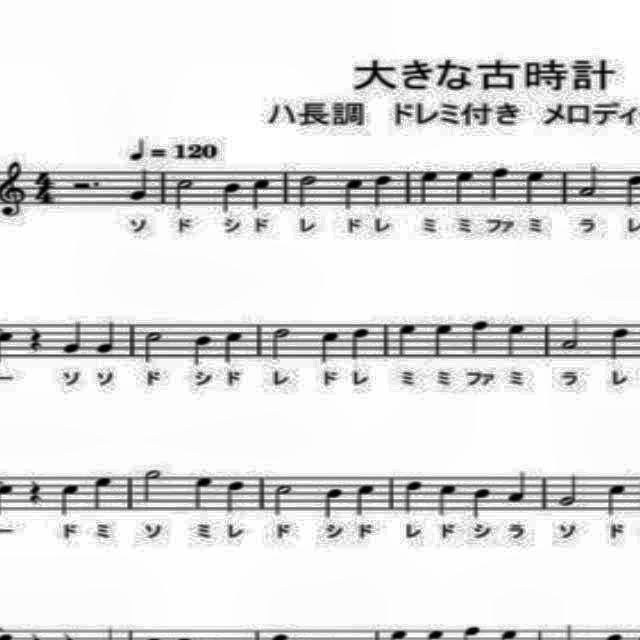Half-note: (137, 462, 167, 506), (288, 170, 320, 210), (554, 472, 586, 512), (271, 478, 301, 518), (574, 160, 604, 200), (168, 175, 196, 213), (140, 324, 164, 366), (558, 318, 586, 354), (266, 322, 290, 362)
Half-rest: (72, 177, 105, 196)
Quarter-note: (87, 469, 117, 515), (190, 470, 218, 518), (602, 322, 634, 362), (433, 479, 462, 521), (394, 319, 422, 361), (466, 318, 494, 360), (56, 478, 84, 520), (338, 174, 367, 214), (399, 474, 428, 514), (124, 166, 156, 202), (92, 320, 120, 360), (500, 318, 528, 358), (601, 480, 629, 520), (248, 174, 276, 213), (488, 164, 514, 206), (353, 478, 379, 520), (61, 319, 88, 359), (217, 178, 245, 216), (430, 320, 454, 364), (224, 476, 248, 520), (221, 328, 247, 368), (348, 326, 374, 366), (506, 468, 532, 508), (418, 167, 442, 210), (522, 167, 546, 210), (372, 171, 396, 213), (454, 164, 478, 206), (316, 328, 344, 364), (192, 330, 216, 370), (322, 481, 346, 521), (125, 132, 151, 166), (470, 484, 492, 520)
Quarter-rest: (24, 474, 48, 510), (25, 321, 45, 357)
Treble-clef: (0, 155, 28, 235)
